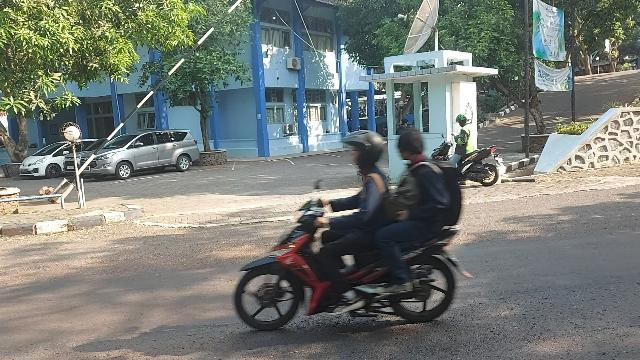helm: (343, 132, 383, 167), (458, 115, 469, 128)
motor: (236, 180, 475, 331), (434, 135, 506, 188)
non-helm: (400, 131, 424, 161)
